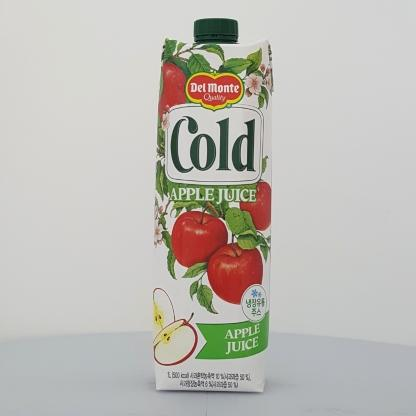------------: (152, 18, 274, 393)
